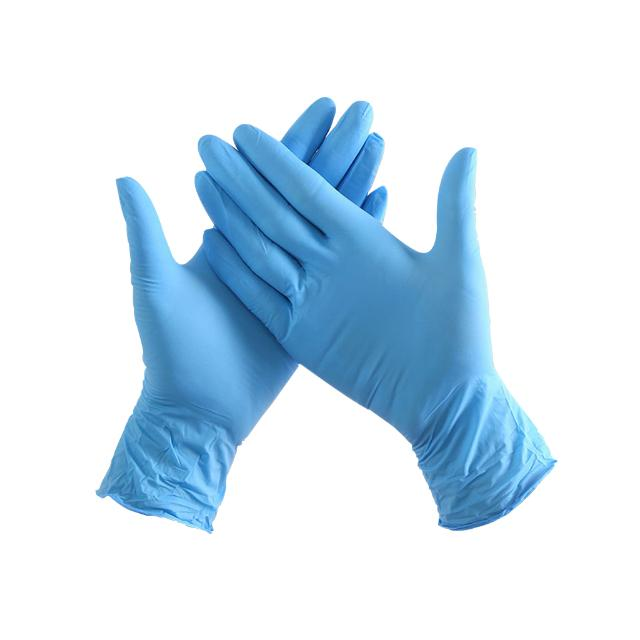Gloves: (192, 90, 570, 562), (116, 89, 395, 541)
